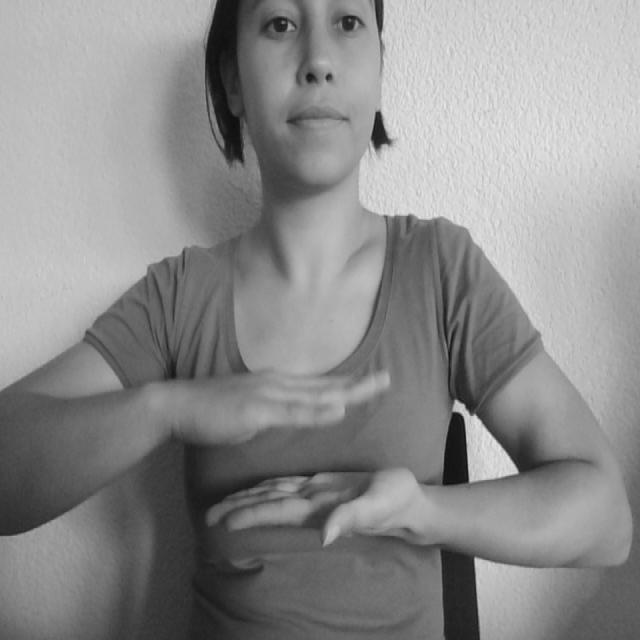Arkadas: (114, 344, 533, 567)
